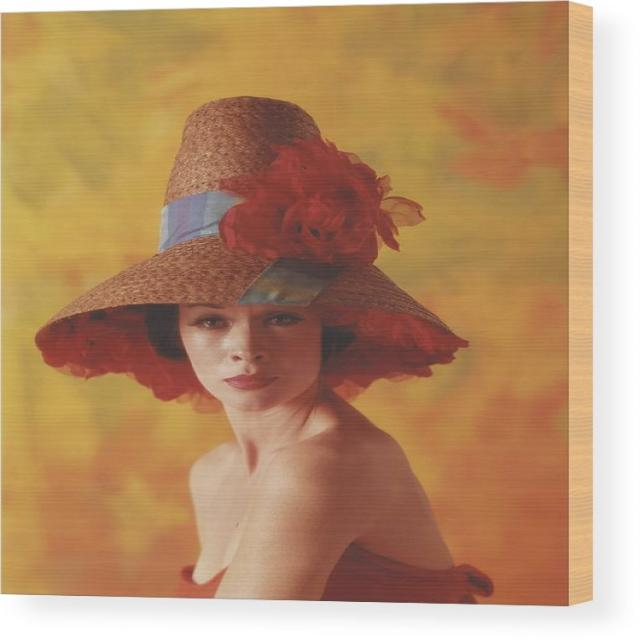hat: (40, 98, 470, 409)
